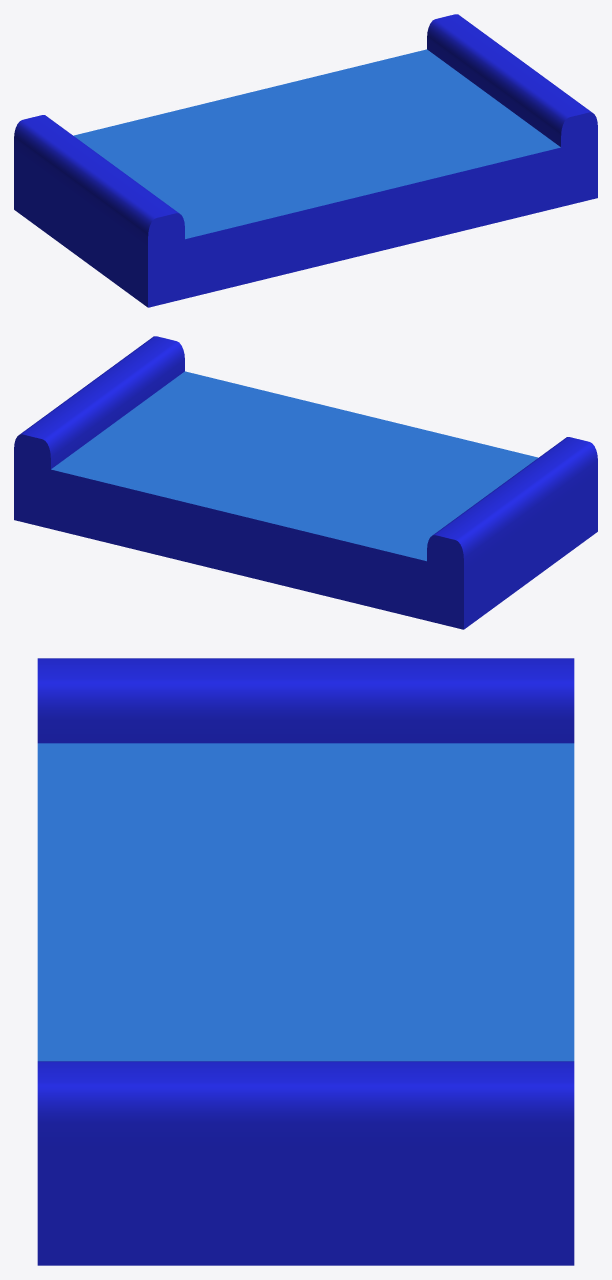
File: Ground.fbx
The picture shows the model from 3 angles, top to bottom: view 1: azimuth 30°, elevation 25°; view 2: azimuth 150°, elevation 25°; view 3: azimuth 270°, elevation 25°; orthographic projection. The views are drawn at different scales.
Visible parts, largest first — view 1: Cube; view 2: Cube; view 3: Cube.
Part boxes in pixels (x1,y1,x2,y2): Cube: (14, 14, 597, 307); Cube: (14, 336, 597, 629); Cube: (37, 658, 574, 1265).
Bounding box in the file's own units: 3.87 × 0.7217 × 2.
